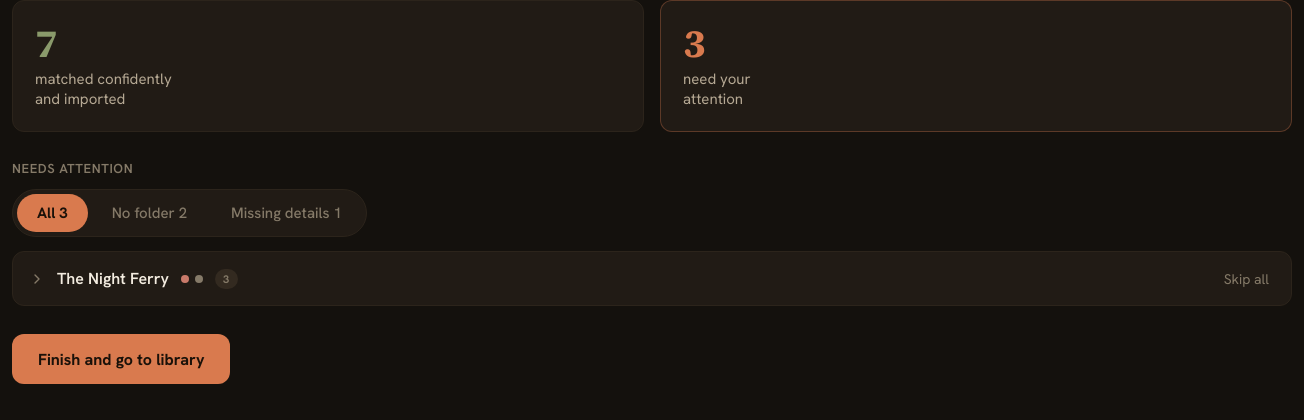
ImportReview — the Kind filter › filters through the Review groups: a group keeps only the chosen kind’s rows
Step 1. Click the button "Missing details 1" → point(286, 213), box [211,194,362,232]
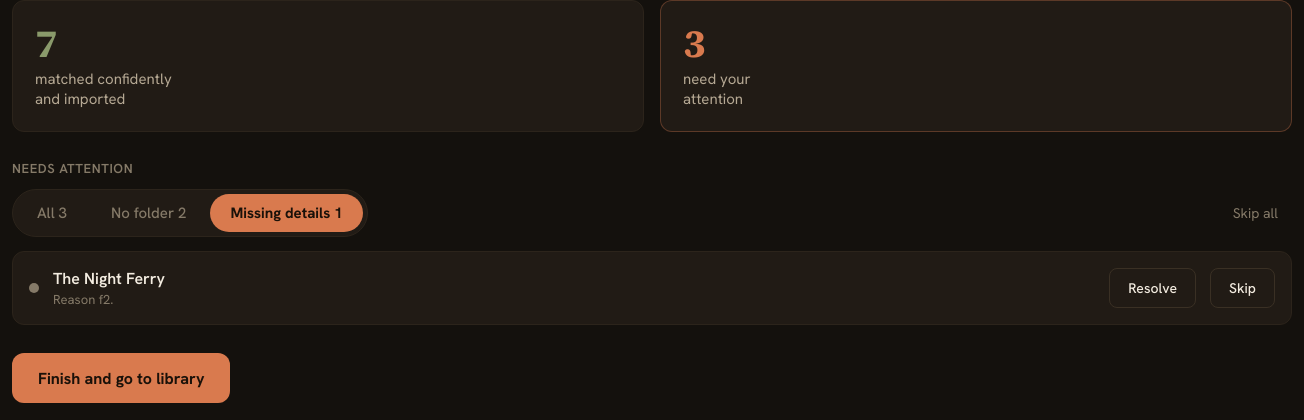
Expected: the text "Reason f2." is shown, [53,291,113,308]
